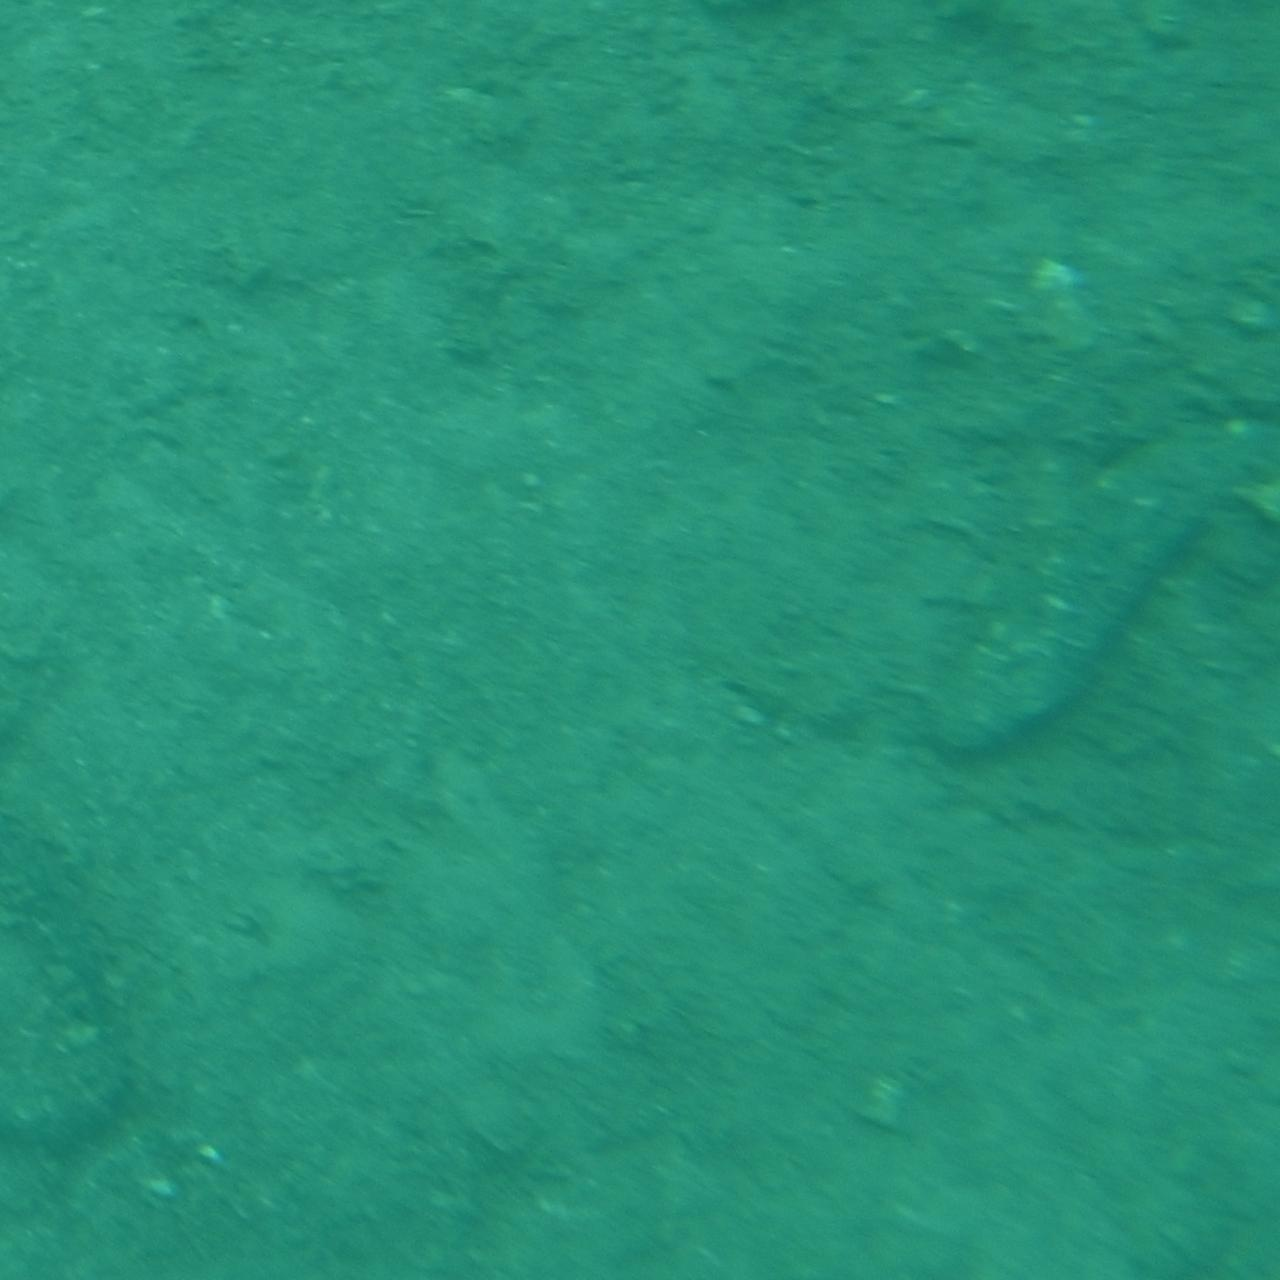Holothuria tubulosa: (940, 482, 1242, 798)
